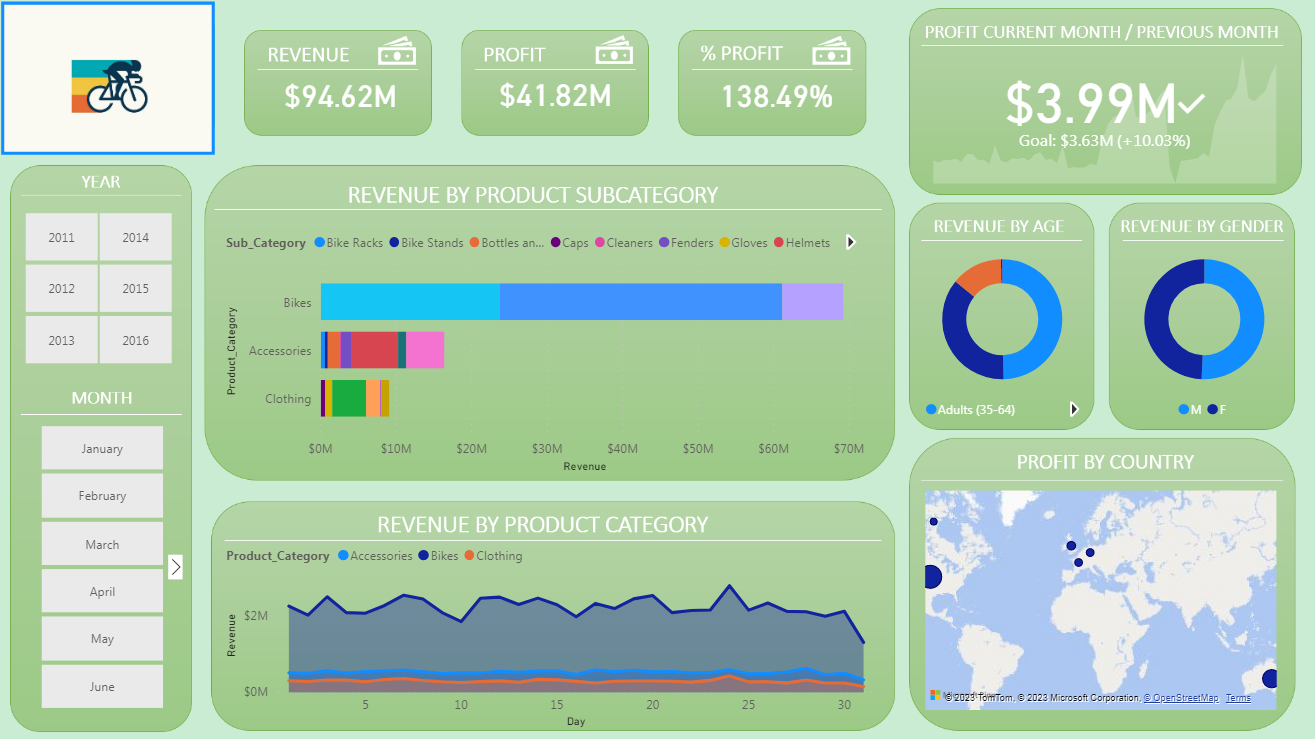

What the dashboard file says about the page in this screenshot:
{"tool":"powerbi","page":{"name":"Dashboard","canvas":[1280,720],"ordinal":0},"visuals":[{"type":"image","box":[0,0,1280,720],"z":0},{"type":"slicer","fields":{"Values":["Calendar.Month Name"]},"box":[16,408,168,288],"z":1000},{"type":"slicer","fields":{"Values":["Calendar.Year"]},"box":[0,200,192,160],"z":2000},{"type":"card","fields":{"Values":["MeasuresTable.Total Revenue"]},"box":[240,48,184,88],"z":3000},{"type":"card","fields":{"Values":["MeasuresTable.Total Profit"]},"box":[449.4,46.7,184,88],"z":4000},{"type":"card","fields":{"Values":["MeasuresTable.% Profit"]},"box":[664,48,184,88],"z":5000},{"type":"kpi","fields":{"Indicator":["MeasuresTable.Total Revenue"],"TrendLine":["Calendar.Start of Month"],"Goal":["MeasuresTable.Revenue Previous Month"]},"box":[904,48,344,136],"z":6000},{"type":"donutChart","fields":{"Category":["Sales.Age_Group"],"Y":["Sum(Sales.Revenue)"]},"box":[896,232,160,184],"z":7000},{"type":"donutChart","fields":{"Y":["Sum(Sales.Revenue)"],"Category":["Sales.Customer_Gender"]},"box":[1088,232,168,184],"z":8000},{"type":"map","fields":{"Category":["Sales.Country"],"Size":["Sum(Sales.Profit)"]},"box":[896,472,352,224],"z":9000},{"type":"areaChart","fields":{"Y":["Sum(Sales.Revenue)"],"Category":["Calendar.Day"],"Series":["Sales.Product_Category"]},"box":[216,520,640,192],"z":10000},{"type":"barChart","fields":{"Category":["Sales.Product_Category"],"Series":["Sales.Sub_Category"],"Y":["Sum(Sales.Revenue)"]},"box":[216,216,632,248],"z":11000},{"type":"basicShape","box":[0,0,212,152],"z":12000},{"type":"image","box":[16,16,184,136],"z":13000}]}

Visuals, with their boxes in screenshot pixels (x1, y1, x2, y2), scaled from the page's 1280x720 canvas onto the 1315x739 screenshot:
image: bbox=[0, 0, 1314, 738]
slicer - Calendar.Month Name: bbox=[16, 419, 189, 714]
slicer - Calendar.Year: bbox=[0, 205, 197, 369]
card - MeasuresTable.Total Revenue: bbox=[247, 49, 436, 140]
card - MeasuresTable.Total Profit: bbox=[462, 48, 651, 138]
card - MeasuresTable.% Profit: bbox=[682, 49, 871, 140]
kpi - MeasuresTable.Total Revenue x Calendar.Start of Month: bbox=[929, 49, 1282, 189]
donutChart - Sales.Age_Group x Sum(Sales.Revenue): bbox=[920, 238, 1085, 427]
donutChart - Sum(Sales.Revenue) x Sales.Customer_Gender: bbox=[1118, 238, 1290, 427]
map - Sales.Country x Sum(Sales.Profit): bbox=[920, 484, 1282, 714]
areaChart - Sum(Sales.Revenue) x Calendar.Day: bbox=[222, 534, 879, 731]
barChart - Sales.Product_Category x Sales.Sub_Category: bbox=[222, 222, 871, 476]
basicShape: bbox=[0, 0, 218, 156]
image: bbox=[16, 16, 205, 156]
